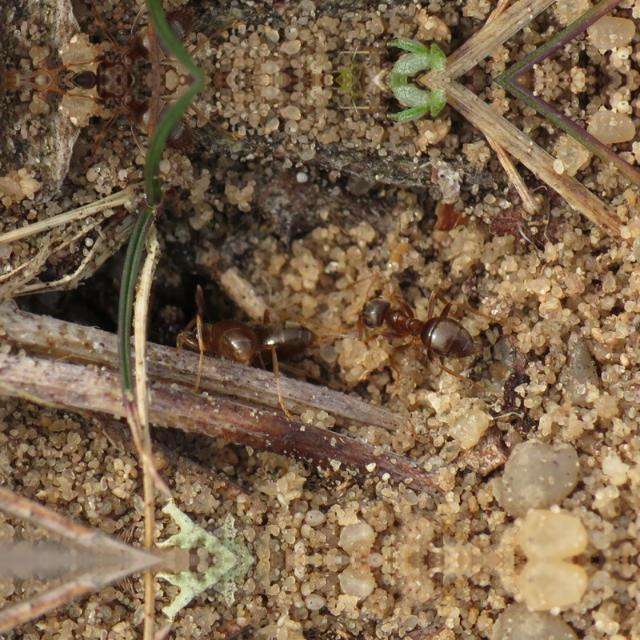Lasius: (345, 280, 491, 362), (162, 292, 255, 376), (227, 309, 323, 365)
